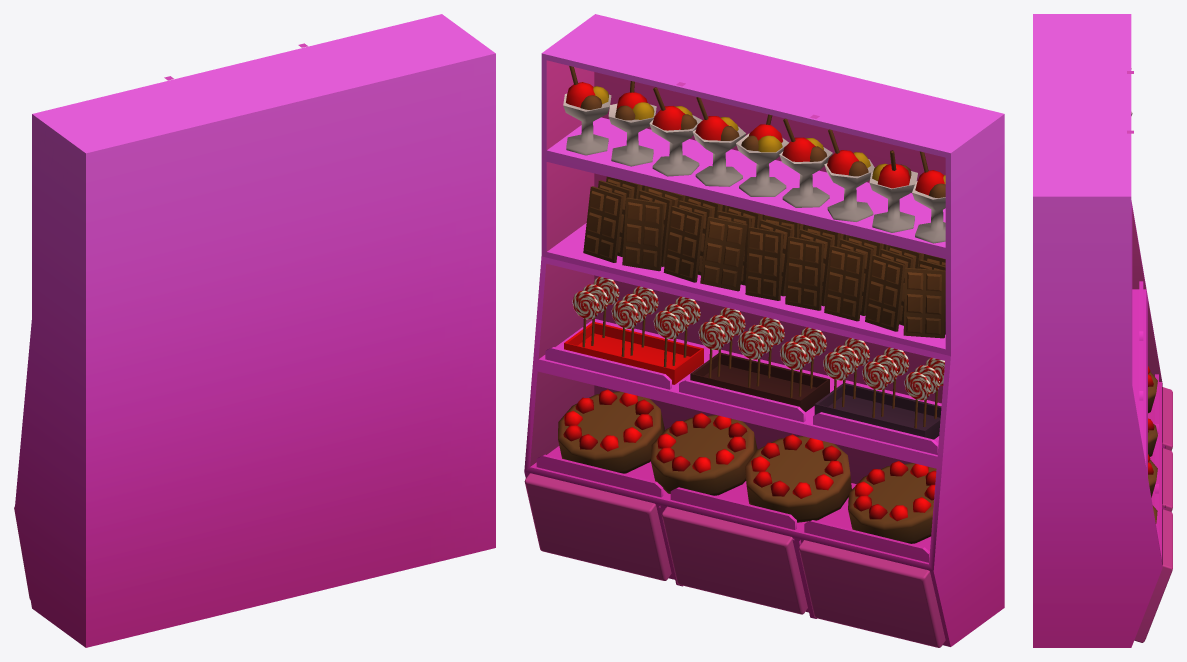
Rendered from Shelf_Full_Candy.fbx.
3 renders of one model, left to right at view 1: azimuth 30°, elevation 25°; view 2: azimuth 150°, elevation 25°; view 3: azimuth 270°, elevation 25°, orthographic. The views are drawn at different scales.
Parts seen in each view (by area): view 1: Shelf_Full_Candy; view 2: Shelf_Full_Candy; view 3: Shelf_Full_Candy.
Boxes of the visible parts, left/top/right/bottom form: Shelf_Full_Candy: left=14, top=14, right=495, bottom=647; Shelf_Full_Candy: left=524, top=14, right=1004, bottom=647; Shelf_Full_Candy: left=1033, top=14, right=1172, bottom=647.
Size of the model in its own units: 14.94 by 17.45 by 4.84.
